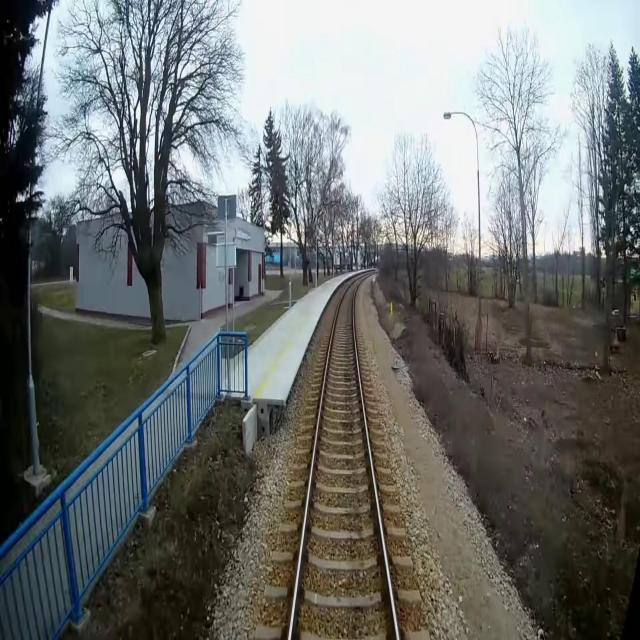rail-track: (292, 277, 395, 639)
